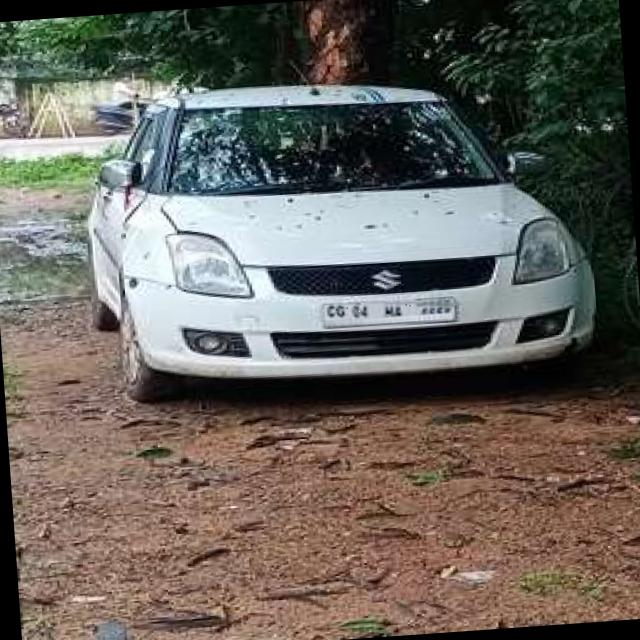Plate: (318, 298, 455, 327)
